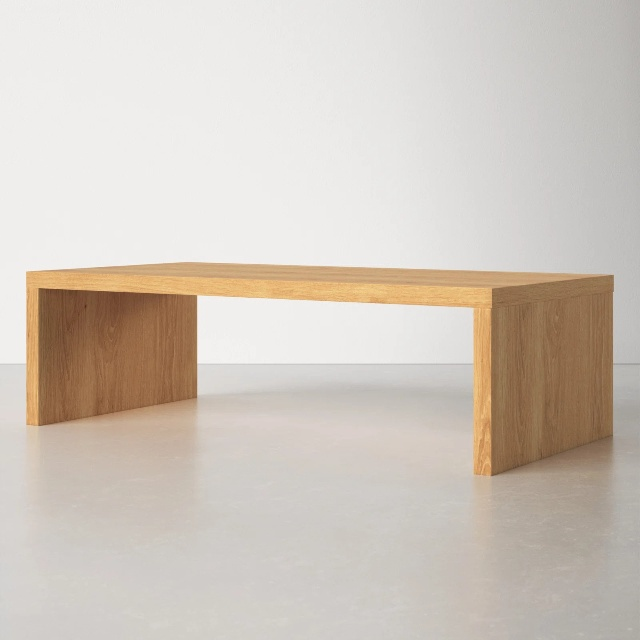obstacle: (27, 262, 613, 475)
